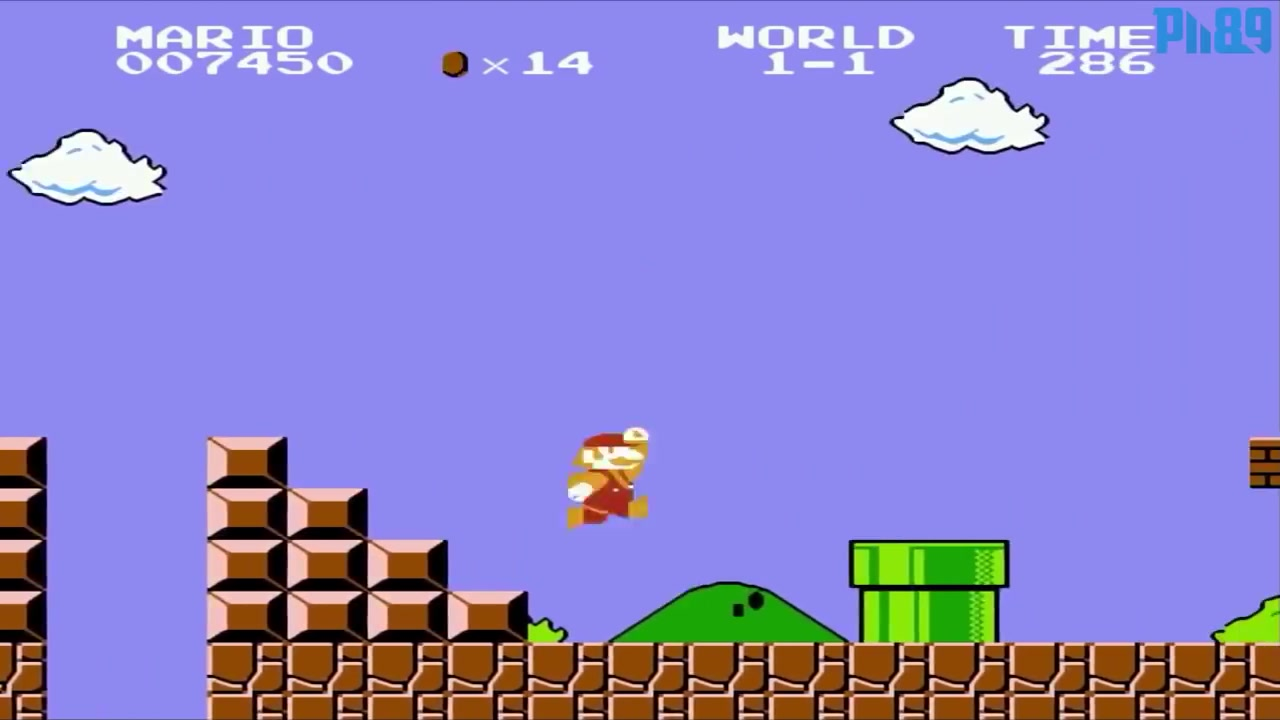mario: (558, 420, 666, 531)
